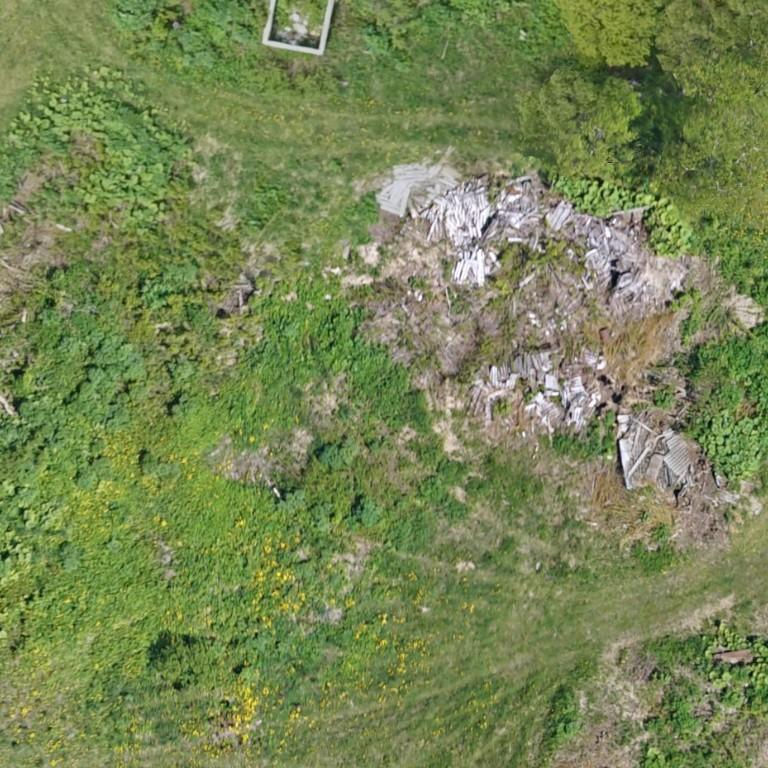hogweed: (724, 325, 767, 397), (419, 477, 444, 500), (439, 459, 462, 480)
